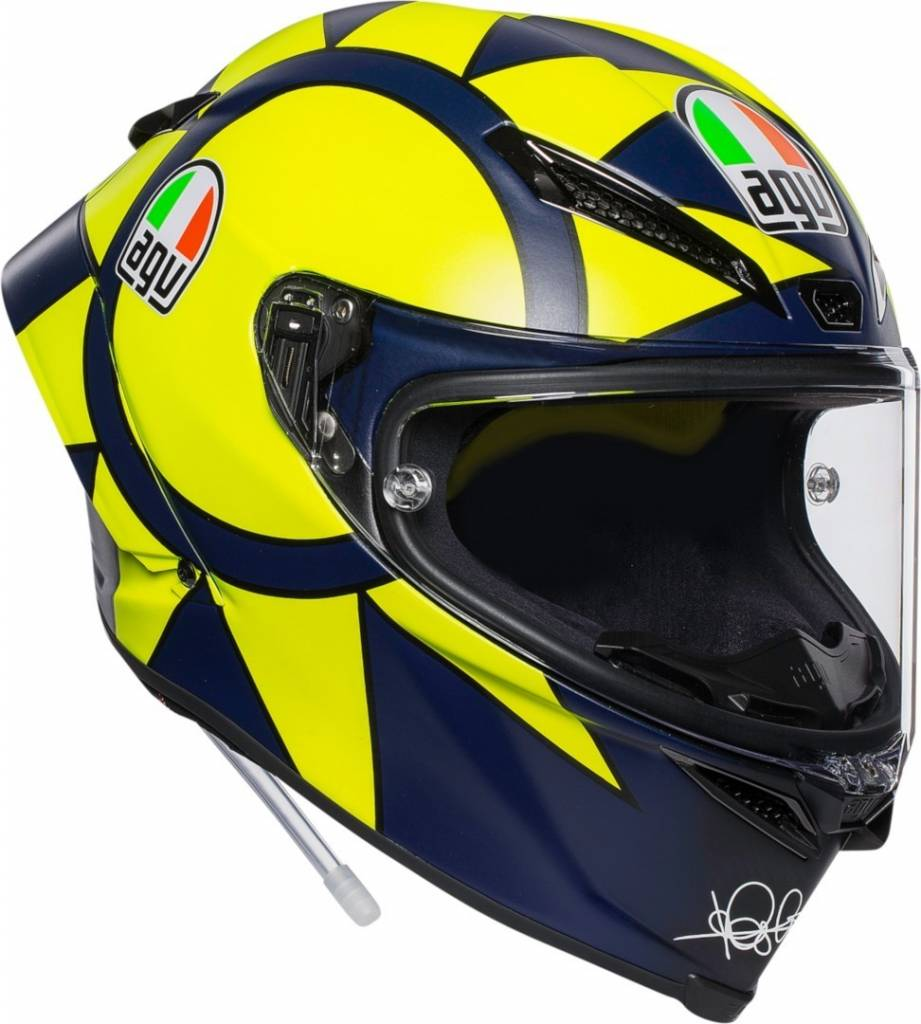helmet: (11, 4, 911, 1024)
